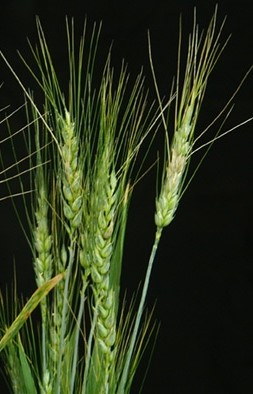Healthy Wheat: (27, 91, 131, 288)
